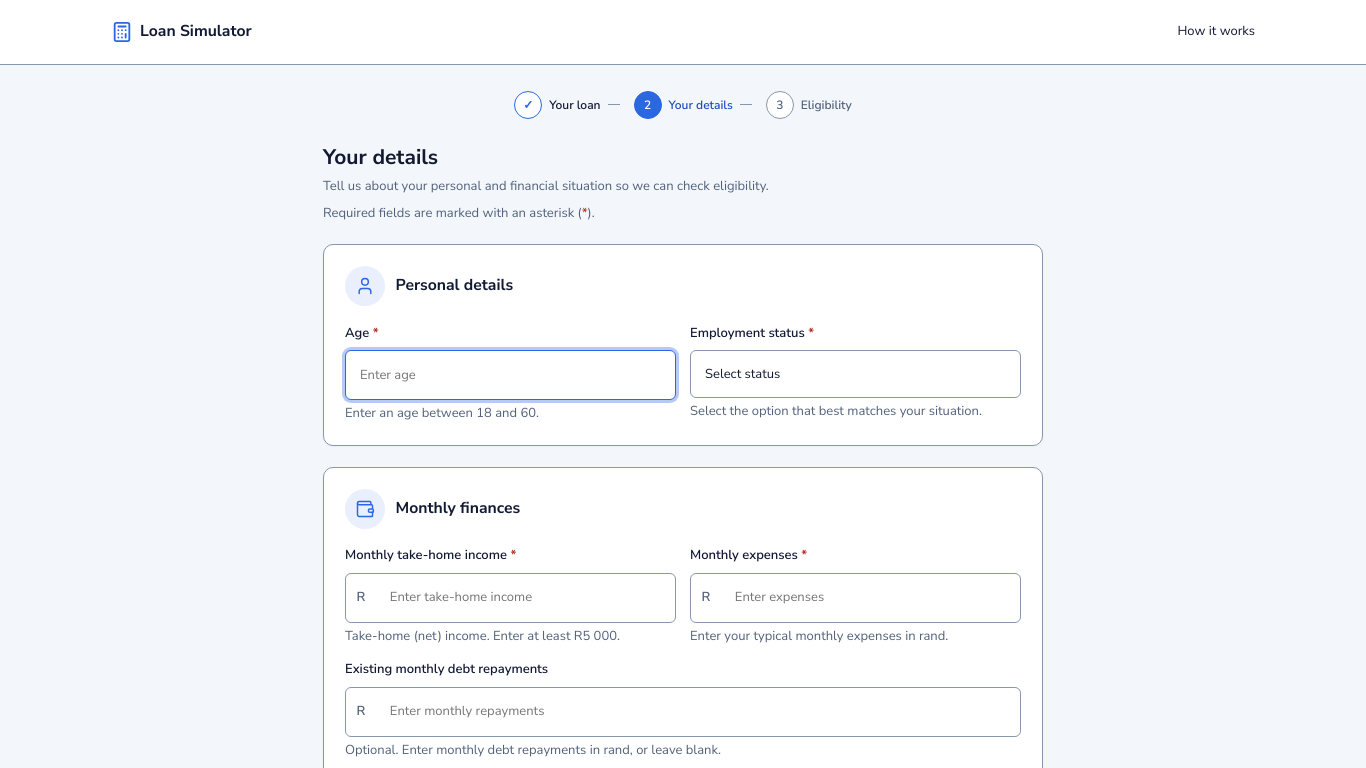
Test: YourDetailsScreen › shows employment duration min error on blur before other fields are filled
Select "Employed" in the dropdown labelled "Employment status*" at x=856, y=374, box [690,350,1021,398]
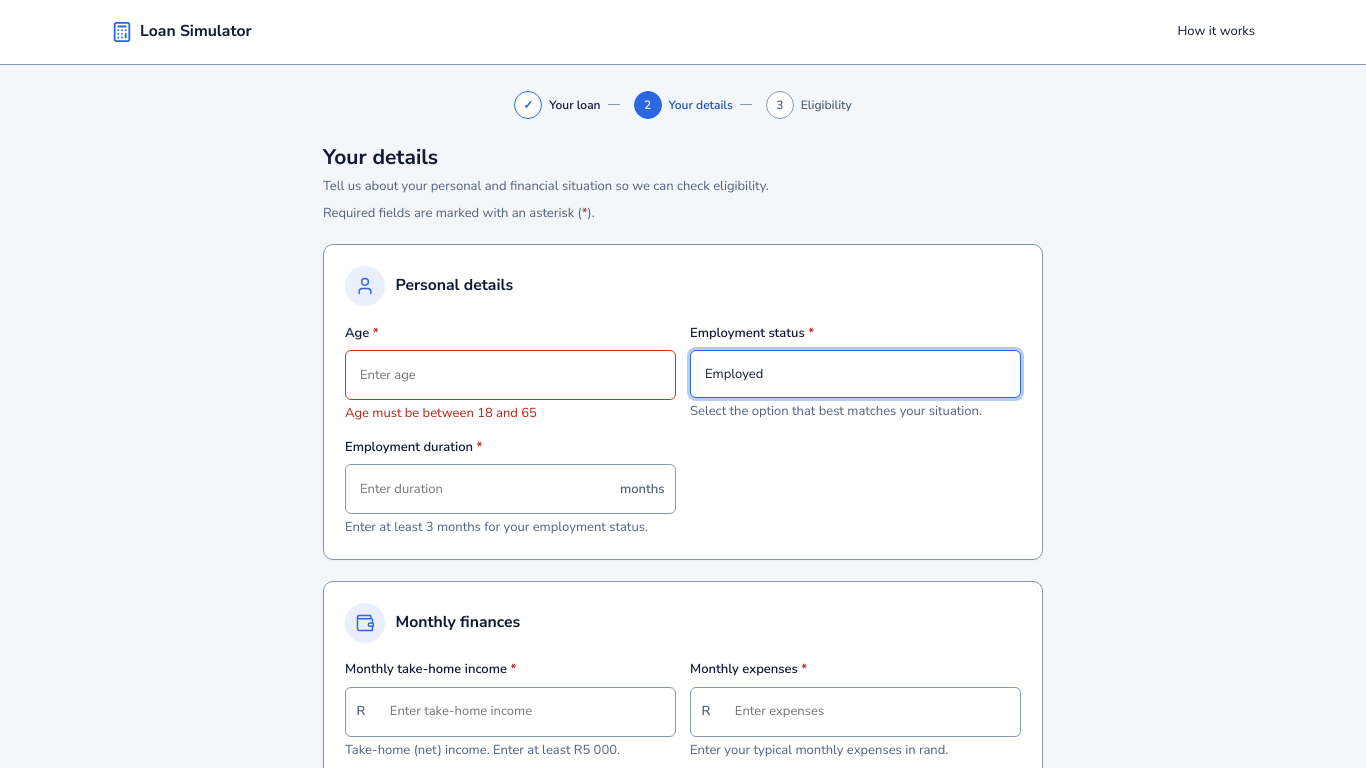
Type "2" into the field labelled "Employment duration*" at x=478, y=489, box [346,465,609,513]
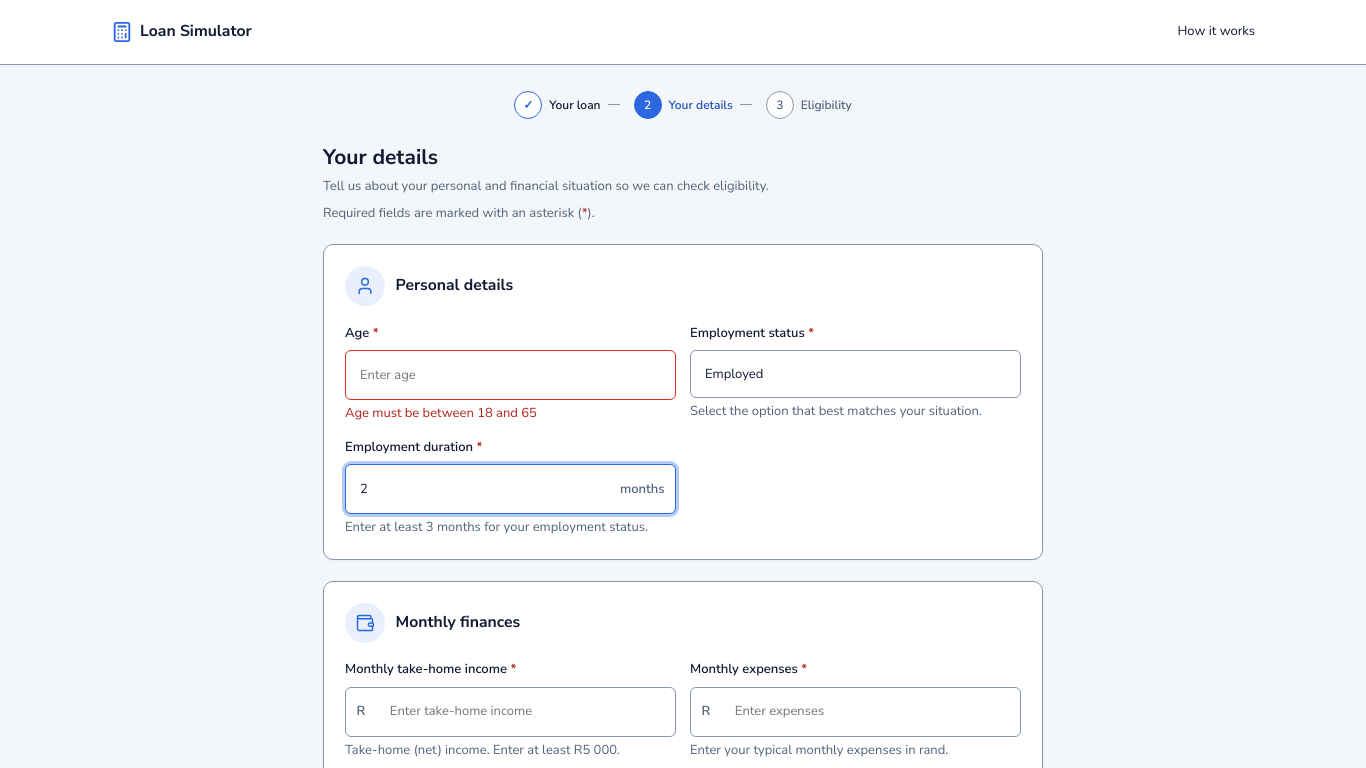
Press Tab
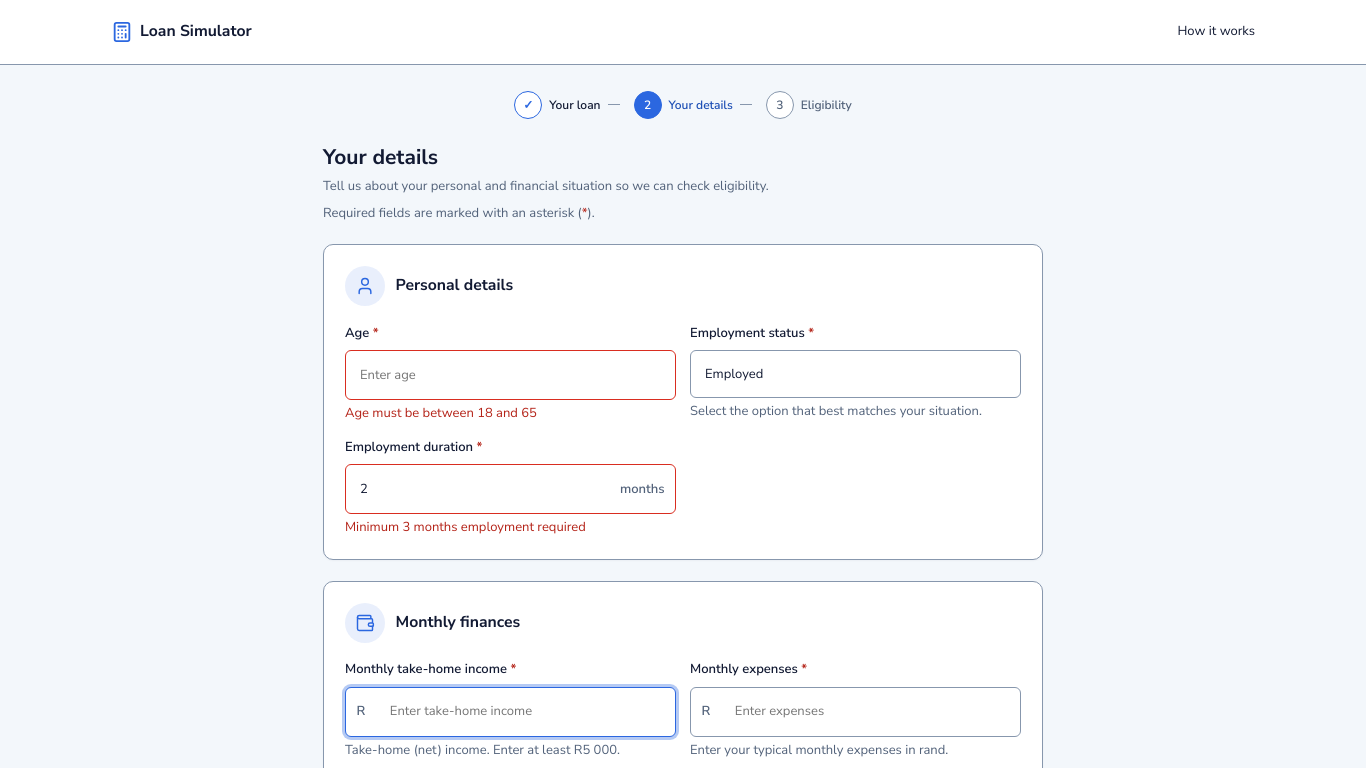
Expected: the text "Minimum 3 months employment required" is shown, [345,518,586,536]
